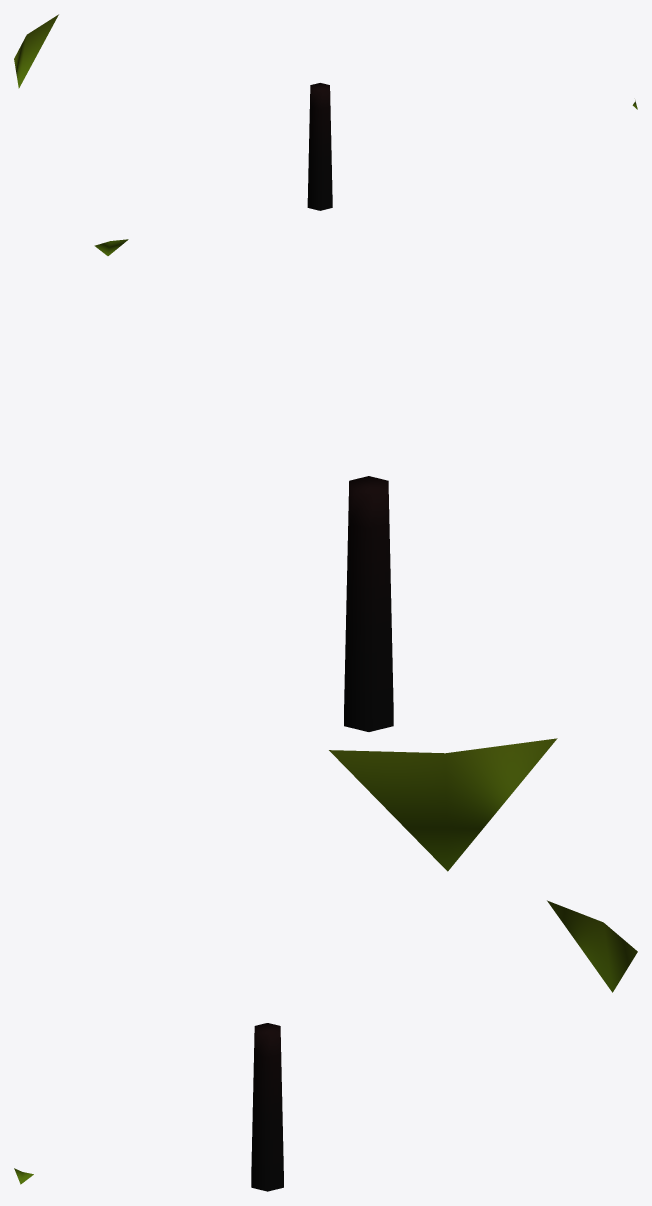
File: banana_a_low.glb
The picture shows the model from 3 angles, top to bottom: view 1: azimuth 30°, elevation 25°; view 2: azimuth 150°, elevation 25°; view 3: azimuth 270°, elevation 25°; orthographic projection. The views are drawn at different scales.
Visible parts, largest first — view 1: banana_a_low; view 2: banana_a_low; view 3: banana_a_low.
Part boxes in pixels (<box>): banana_a_low: <box>14,14,637,210</box>; banana_a_low: <box>94,239,557,871</box>; banana_a_low: <box>14,900,637,1191</box>.
Bounding box in the file's own units: 2.57 × 0.6748 × 2.47.
Materials: 1 (1 with a texture image).
